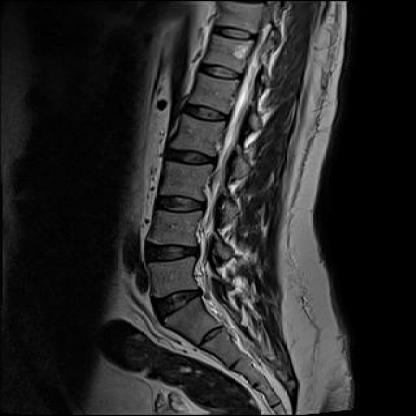Disc Bulgerotation: (148, 287, 209, 321), (141, 237, 203, 268)
